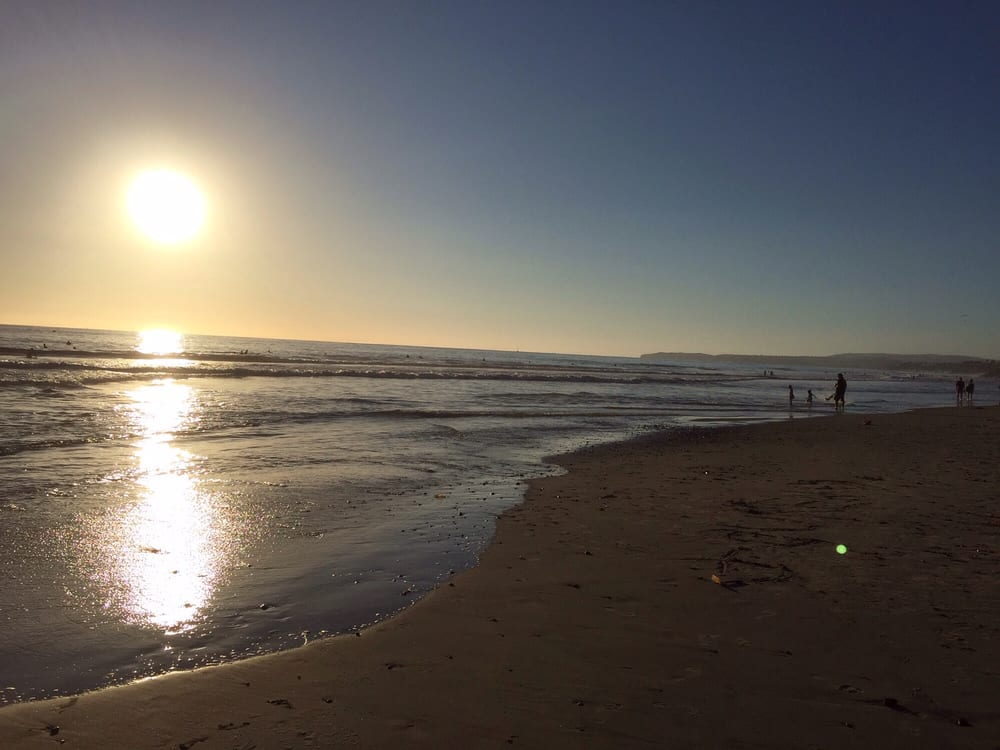flare: (837, 544, 848, 555)
